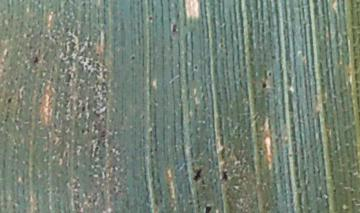tarspot: (191, 166, 203, 181), (220, 169, 228, 182), (79, 102, 87, 114), (171, 22, 178, 35), (32, 55, 39, 65), (5, 97, 13, 105), (204, 205, 211, 213), (218, 42, 225, 50), (192, 64, 199, 71), (147, 15, 154, 22), (269, 53, 276, 60), (261, 81, 267, 89), (129, 55, 137, 61), (267, 70, 272, 78), (80, 127, 85, 135)
